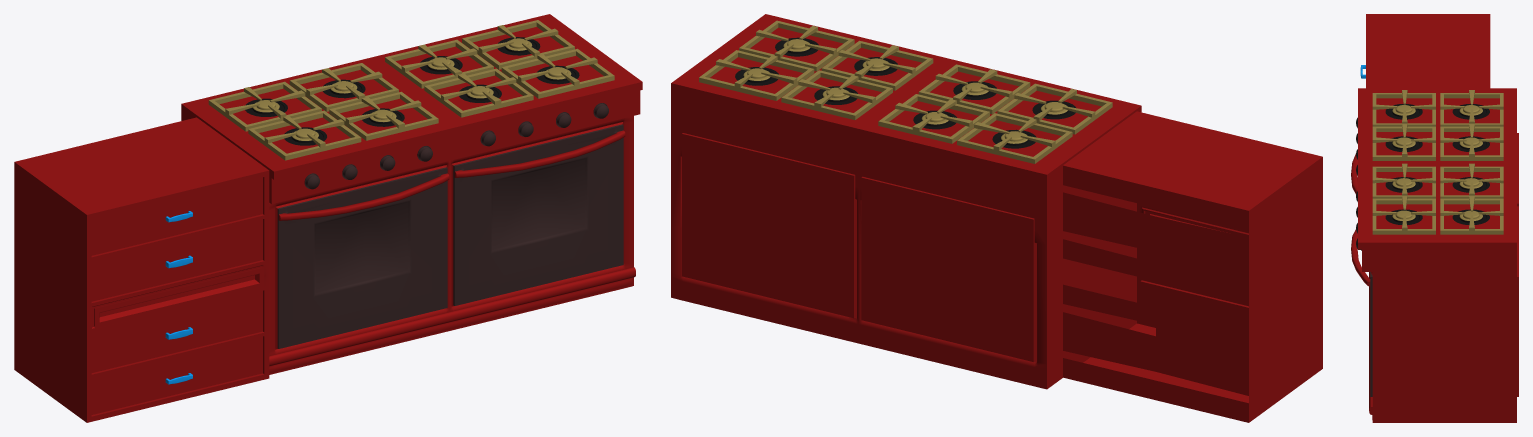
The model's file is plaque.fbx.
3 views of the same model, side by side, from view 1: azimuth 30°, elevation 25°; view 2: azimuth 150°, elevation 25°; view 3: azimuth 270°, elevation 25° (orthographic). The views are drawn at different scales.
Parts seen in each view (by area): view 1: cuisineplaque; view 2: cuisineplaque; view 3: cuisineplaque.
Part boxes in pixels (x1,y1,x2,y2): cuisineplaque: (14,14,642,422); cuisineplaque: (671,14,1322,422); cuisineplaque: (1351,14,1518,422).
Bounding box in the file's own units: 179 × 67.92 × 55.2.
